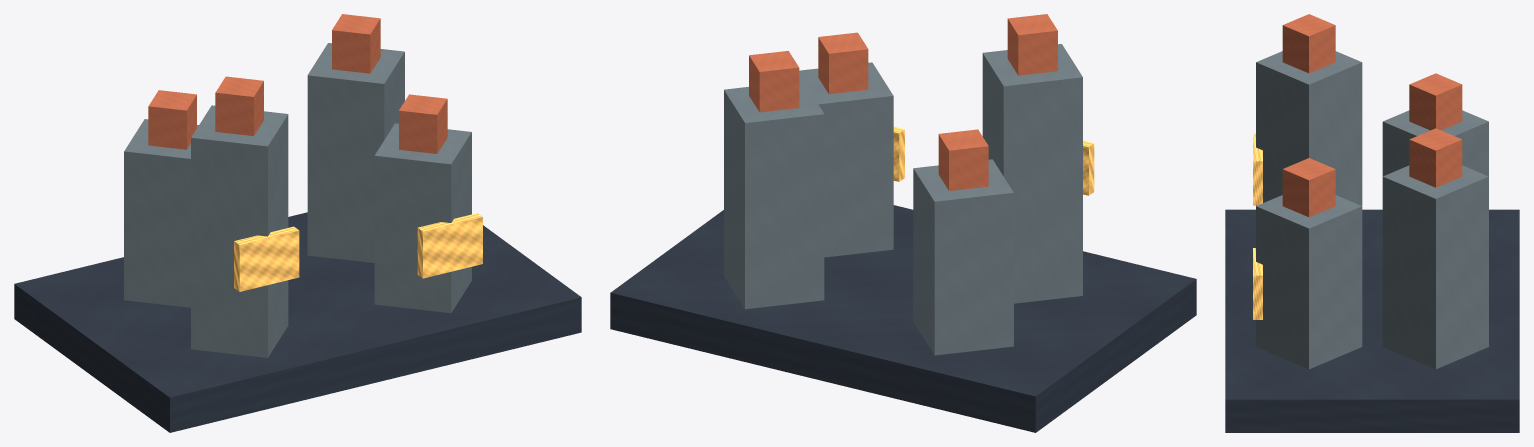
The model's file is atlas100-s023-a04.lod1.glb.
The picture shows the model from 3 angles, left to right: view 1: azimuth 30°, elevation 25°; view 2: azimuth 150°, elevation 25°; view 3: azimuth 270°, elevation 25°; orthographic projection. The views are drawn at different scales.
Visible parts, largest first — view 1: atlas100-s023-a04:part-000, atlas100-s023-a04:part-007, atlas100-s023-a04:part-004, atlas100-s023-a04:part-010, atlas100-s023-a04:part-001, atlas100-s023-a04:part-012, atlas100-s023-a04:part-009, atlas100-s023-a04:part-008, atlas100-s023-a04:part-011, atlas100-s023-a04:part-005, atlas100-s023-a04:part-002; view 2: atlas100-s023-a04:part-000, atlas100-s023-a04:part-004, atlas100-s023-a04:part-007, atlas100-s023-a04:part-001, atlas100-s023-a04:part-010, atlas100-s023-a04:part-008, atlas100-s023-a04:part-002, atlas100-s023-a04:part-005, atlas100-s023-a04:part-011, atlas100-s023-a04:part-012, atlas100-s023-a04:part-009; view 3: atlas100-s023-a04:part-000, atlas100-s023-a04:part-004, atlas100-s023-a04:part-010, atlas100-s023-a04:part-007, atlas100-s023-a04:part-001, atlas100-s023-a04:part-005, atlas100-s023-a04:part-008, atlas100-s023-a04:part-011, atlas100-s023-a04:part-002, atlas100-s023-a04:part-012, atlas100-s023-a04:part-009.
Part boxes in pixels (x1,y1,x2,y2): atlas100-s023-a04:part-000: (14,212,581,432); atlas100-s023-a04:part-007: (191,105,288,357); atlas100-s023-a04:part-004: (307,43,404,262); atlas100-s023-a04:part-010: (374,123,471,313); atlas100-s023-a04:part-001: (124,119,198,307); atlas100-s023-a04:part-012: (417,213,482,278); atlas100-s023-a04:part-009: (234,226,299,291); atlas100-s023-a04:part-008: (215,76,263,135); atlas100-s023-a04:part-011: (399,94,447,153); atlas100-s023-a04:part-005: (332,14,380,73); atlas100-s023-a04:part-002: (148,90,196,149); atlas100-s023-a04:part-000: (610,205,1196,432); atlas100-s023-a04:part-004: (724,80,824,309); atlas100-s023-a04:part-007: (982,44,1082,303); atlas100-s023-a04:part-001: (913,159,1013,355); atlas100-s023-a04:part-010: (799,62,893,257); atlas100-s023-a04:part-008: (1007,14,1057,75); atlas100-s023-a04:part-002: (938,129,988,190); atlas100-s023-a04:part-005: (749,51,799,112); atlas100-s023-a04:part-011: (818,32,868,93); atlas100-s023-a04:part-012: (893,126,904,181); atlas100-s023-a04:part-009: (1083,140,1094,195); atlas100-s023-a04:part-000: (1225,209,1519,432); atlas100-s023-a04:part-004: (1382,165,1488,369); atlas100-s023-a04:part-010: (1256,195,1362,369); atlas100-s023-a04:part-007: (1256,51,1362,205); atlas100-s023-a04:part-001: (1382,110,1488,176); atlas100-s023-a04:part-005: (1409,128,1462,187); atlas100-s023-a04:part-008: (1282,14,1335,73); atlas100-s023-a04:part-011: (1282,158,1335,217); atlas100-s023-a04:part-002: (1409,73,1462,130); atlas100-s023-a04:part-012: (1253,248,1262,319); atlas100-s023-a04:part-009: (1253,133,1262,205).
Bounding box in the file's own units: 1.18 × 0.7804 × 0.7697.
4 materials, 4 textured.
